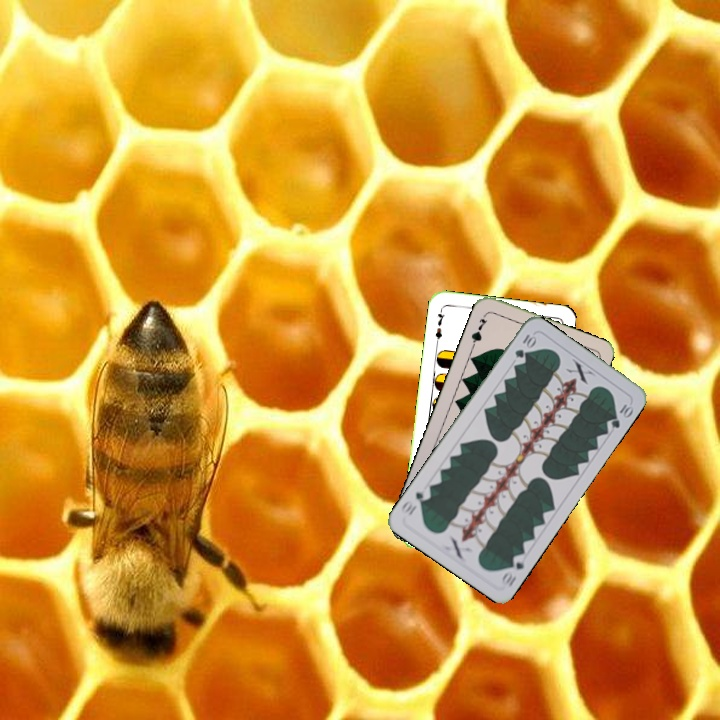E7: (431, 305, 447, 345)
G10: (498, 550, 529, 590), (511, 330, 538, 361)
G7: (467, 310, 490, 349)
